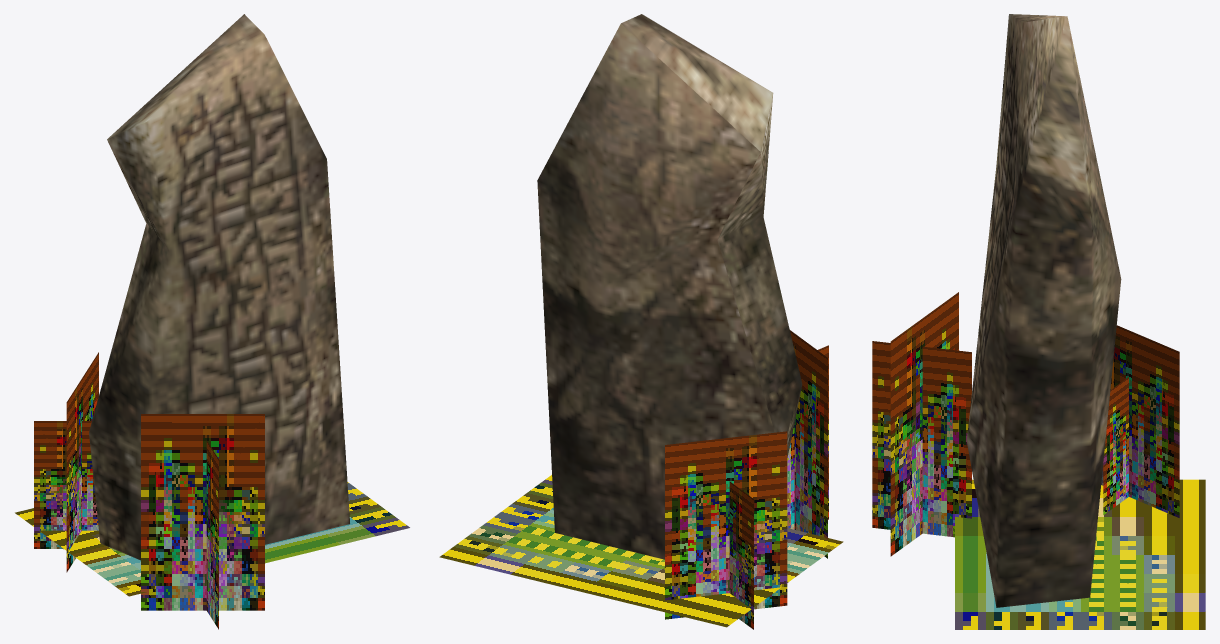
File: idle.glb
3 renders of one model, left to right at view 1: azimuth 30°, elevation 25°; view 2: azimuth 150°, elevation 25°; view 3: azimuth 270°, elevation 25°, orthographic. The views are drawn at different scales.
Parts seen in each view (by area): view 1: MeshRoot; view 2: MeshRoot; view 3: MeshRoot.
Part boxes in pixels (left/top/right/bottom): MeshRoot: left=15, top=14, right=409, bottom=629; MeshRoot: left=439, top=14, right=843, bottom=629; MeshRoot: left=872, top=14, right=1205, bottom=629.
Bounding box in the file's own units: 1.62 × 2.84 × 1.5.
Materials: 3 (3 with a texture image).
